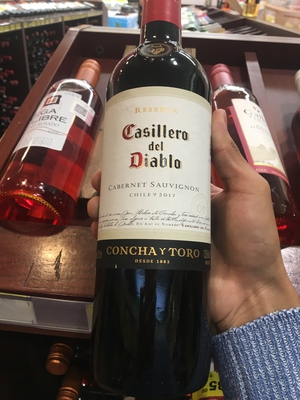casillero del diablo cabernet sauvignon: (96, 17, 221, 377)
